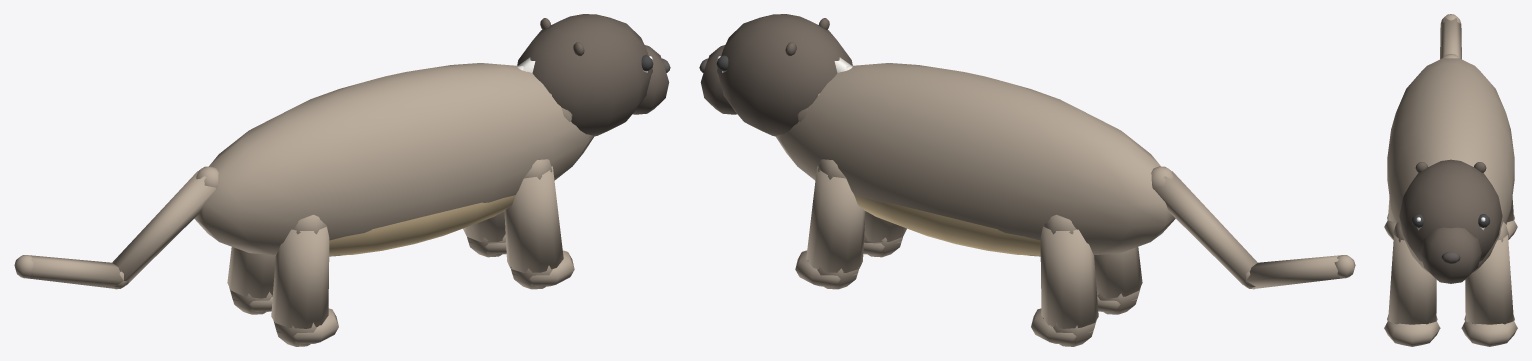
The model's file is formosan-ferret-badger.glb.
3 views of the same model, side by side, from view 1: azimuth 30°, elevation 25°; view 2: azimuth 150°, elevation 25°; view 3: azimuth 270°, elevation 25° (orthographic). The views are drawn at different scales.
Parts seen in each view (by area): view 1: e, e.018, e.008, e.030, e.002, e.011, e.005; view 2: e, e.018, e.011, e.030, e.005, e.008, e.002; view 3: e, e.018, e.002, e.005, e.030, e.008, e.011.
Part boxes in pixels (left/top/right/bottom): e: left=194, top=57, right=594, bottom=256; e.018: left=517, top=14, right=670, bottom=136; e.008: left=271, top=214, right=338, bottom=346; e.030: left=14, top=166, right=218, bottom=289; e.002: left=504, top=159, right=574, bottom=289; e.011: left=227, top=247, right=275, bottom=314; e.005: left=463, top=211, right=506, bottom=257; e: left=775, top=57, right=1175, bottom=256; e.018: left=699, top=14, right=852, bottom=136; e.011: left=1031, top=214, right=1098, bottom=346; e.030: left=1151, top=166, right=1355, bottom=289; e.005: left=795, top=159, right=865, bottom=289; e.008: left=1094, top=247, right=1142, bottom=314; e.002: left=863, top=211, right=906, bottom=257; e: left=1387, top=58, right=1514, bottom=273; e.018: left=1399, top=159, right=1502, bottom=283; e.002: left=1384, top=222, right=1440, bottom=346; e.005: left=1461, top=222, right=1517, bottom=346; e.030: left=1440, top=14, right=1461, bottom=59; e.008: left=1384, top=197, right=1395, bottom=239; e.011: left=1506, top=197, right=1517, bottom=239.
Bounding box in the file's own units: 1.03 × 0.3523 × 0.2075.
